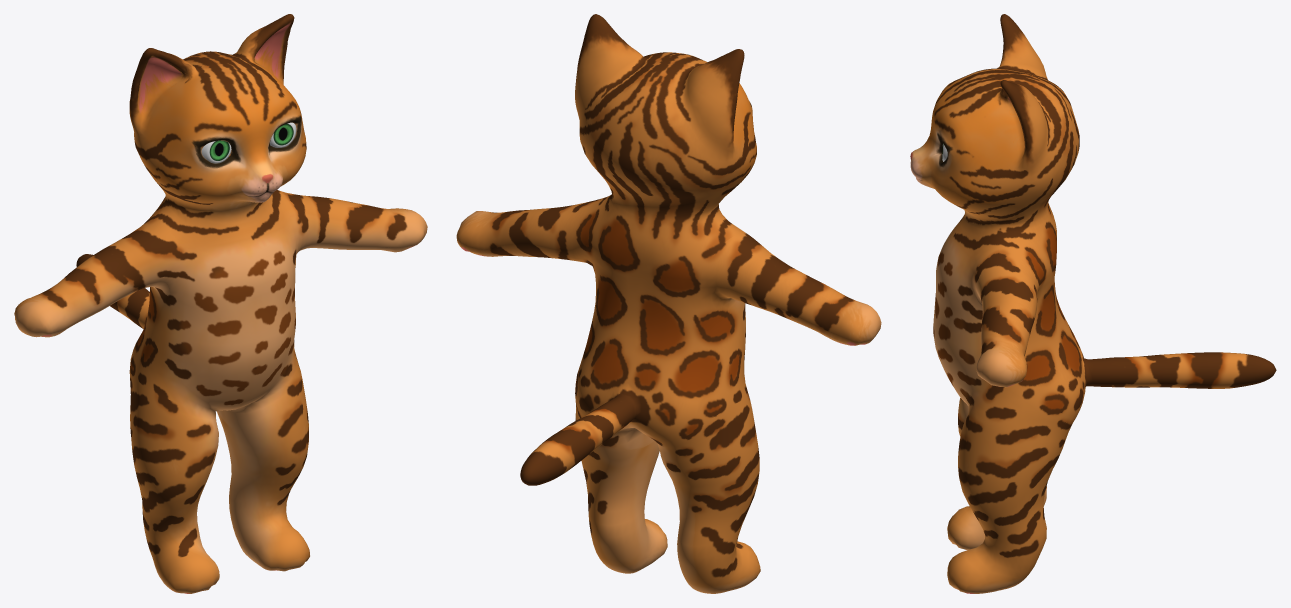
File: kedi.glb
3 renders of one model, left to right at view 1: azimuth 30°, elevation 25°; view 2: azimuth 150°, elevation 25°; view 3: azimuth 270°, elevation 25°, orthographic. The views are drawn at different scales.
Parts seen in each view (by area): view 1: cat_in_bed-RETOP4_0, eyes.001_1; view 2: cat_in_bed-RETOP4_0; view 3: cat_in_bed-RETOP4_0.
Part boxes in pixels (left/top/right/bottom): cat_in_bed-RETOP4_0: left=14, top=14, right=427, bottom=593; eyes.001_1: left=201, top=122, right=296, bottom=163; cat_in_bed-RETOP4_0: left=456, top=14, right=881, bottom=593; cat_in_bed-RETOP4_0: left=910, top=14, right=1276, bottom=593.
Size of the model in its own units: 1.4 by 1.77 by 1.13.
Materials: 2 (2 with a texture image).
